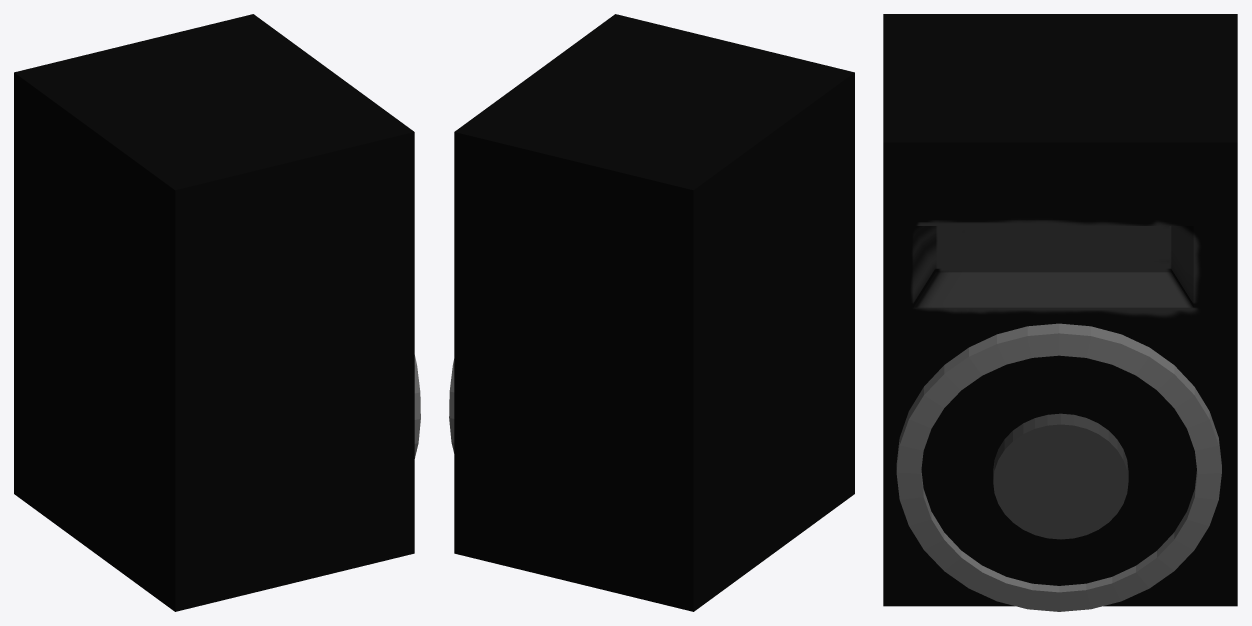
The model's file is bocina.glb.
The picture shows the model from 3 angles, left to right: view 1: azimuth 30°, elevation 25°; view 2: azimuth 150°, elevation 25°; view 3: azimuth 270°, elevation 25°; orthographic projection. The views are drawn at different scales.
Parts seen in each view (by area): view 1: Cube_0; view 2: Cube_0; view 3: Cube_0, Cylinder_1, Cylinder.001_2.
Part boxes in pixels (<box>): Cube_0: <box>14,14,414,611</box>; Cube_0: <box>454,14,854,611</box>; Cube_0: <box>883,14,1237,606</box>; Cylinder_1: <box>896,323,1221,611</box>; Cylinder.001_2: <box>993,413,1128,539</box>.
Bounding box in the file's own units: 1.86 × 2.9 × 2.
3 materials, 3 textured.
